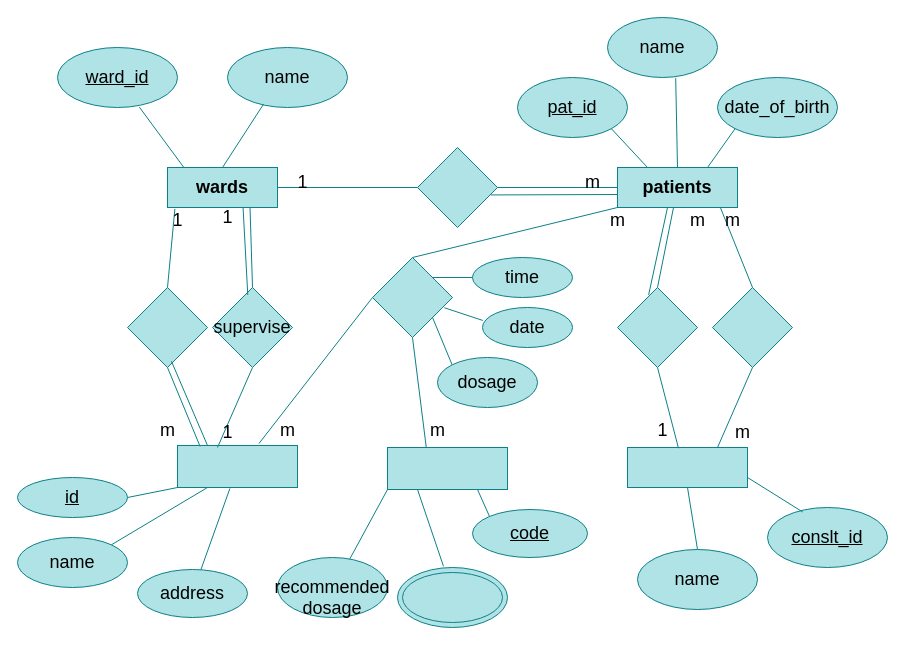
This 905x645 diagram has some shape labels left out. Each missing label, with the centre of its shape:
assign: [657,327]
brand name: [452,597]
consultant: [687,467]
drugs: [447,468]
examine: [752,327]
gives: [412,297]
host: [457,187]
nurses: [237,466]
serve in: [167,327]
